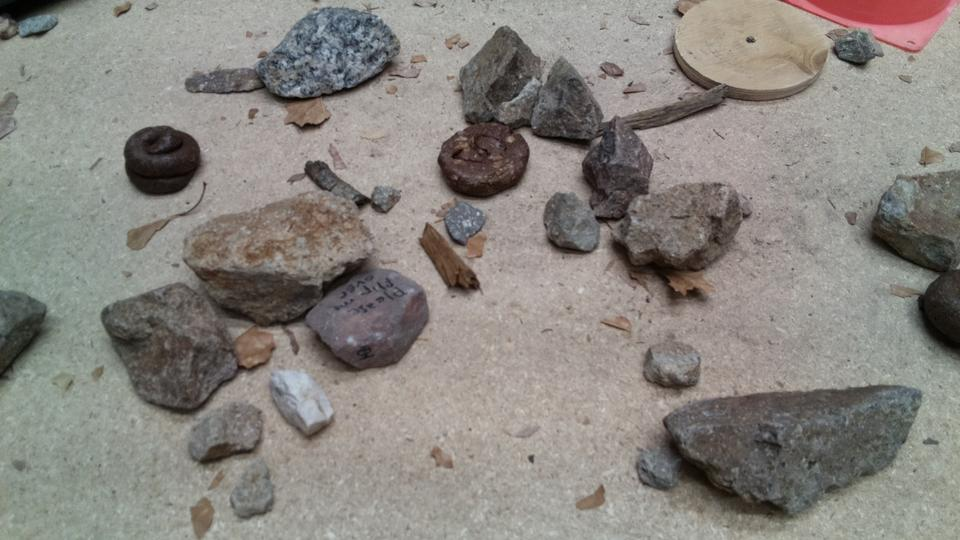poop: (437, 119, 532, 199), (121, 121, 203, 197), (919, 265, 960, 357)
